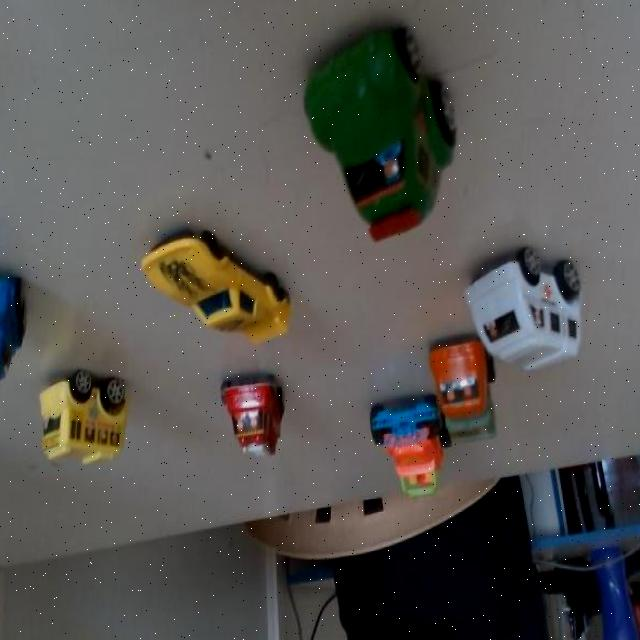car: (297, 26, 475, 240), (452, 223, 592, 396), (145, 221, 293, 356), (41, 357, 139, 468), (360, 399, 445, 507), (428, 334, 498, 456), (222, 360, 298, 469), (0, 256, 27, 389)
